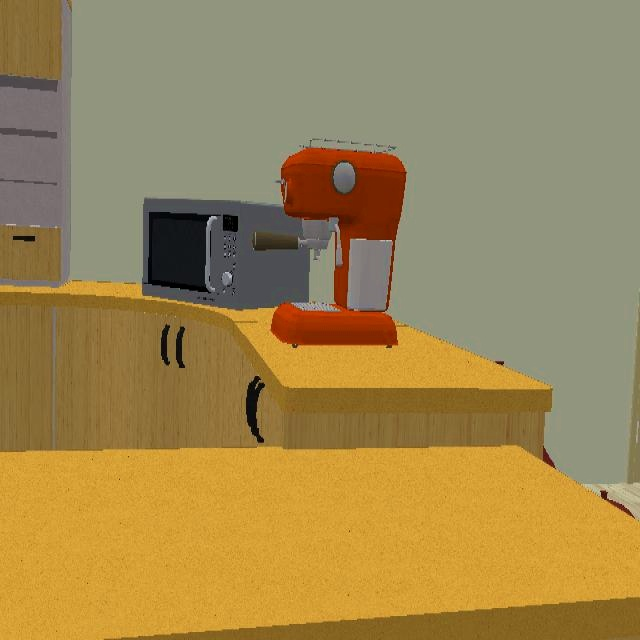countertop: (0, 445, 640, 640), (0, 281, 550, 391)
microwave: (143, 200, 305, 308)
shelf: (0, 0, 72, 283)
